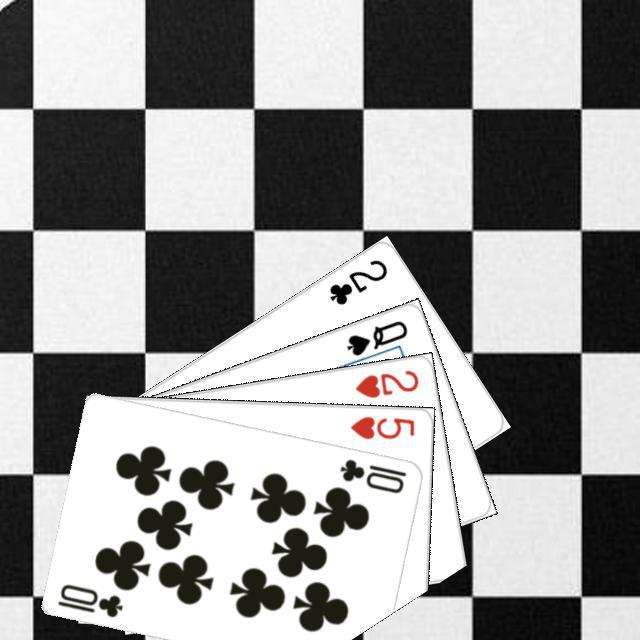10c: (335, 454, 408, 495), (53, 579, 125, 619)
2c: (324, 254, 389, 307)
2h: (350, 365, 421, 400)
5h: (345, 411, 416, 441)
Qs: (342, 315, 409, 358)
